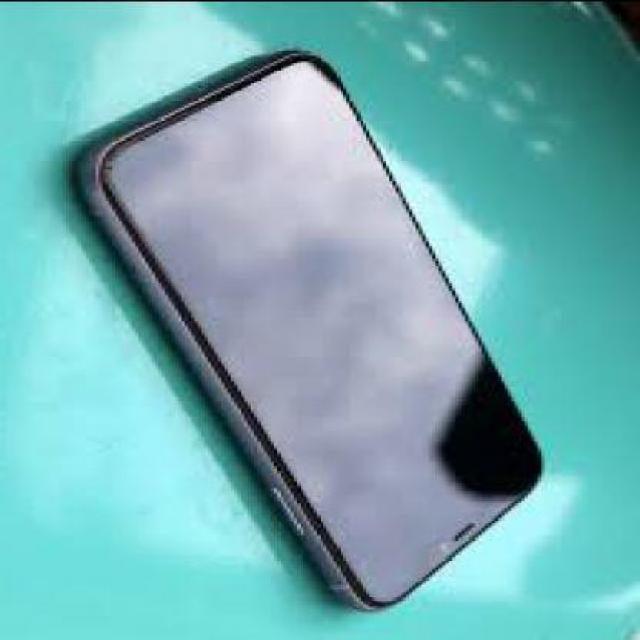phone: (73, 47, 541, 610)
